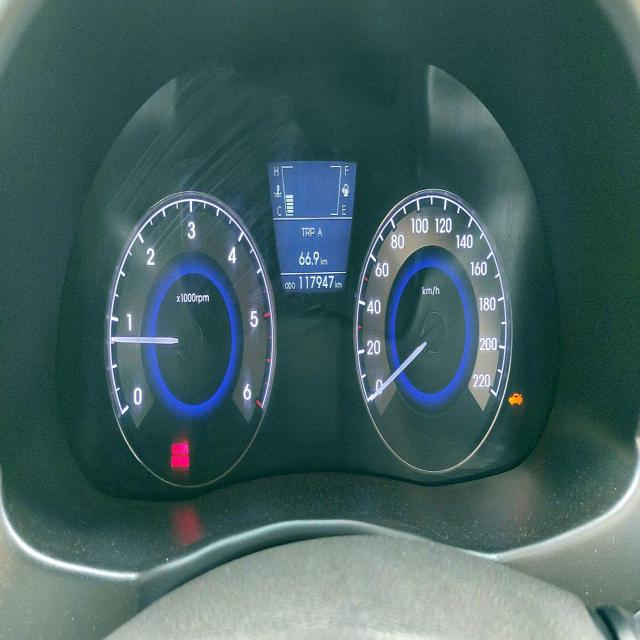odometer: (298, 272, 335, 292)
